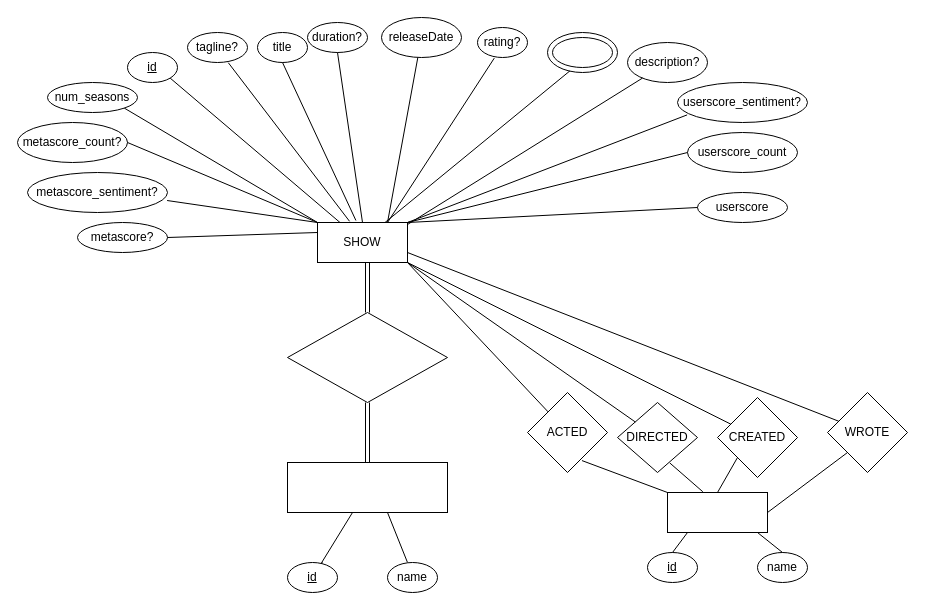
The diagram is 925 pixels wide and 610 high, and some of its shapes have lost their labels. Each missing label, with the centre of its shape:
COMPANY: point (367, 487)
genre: point (582, 52)
PEOPLE: point (717, 512)
PRODUCED_BY: point (367, 357)
